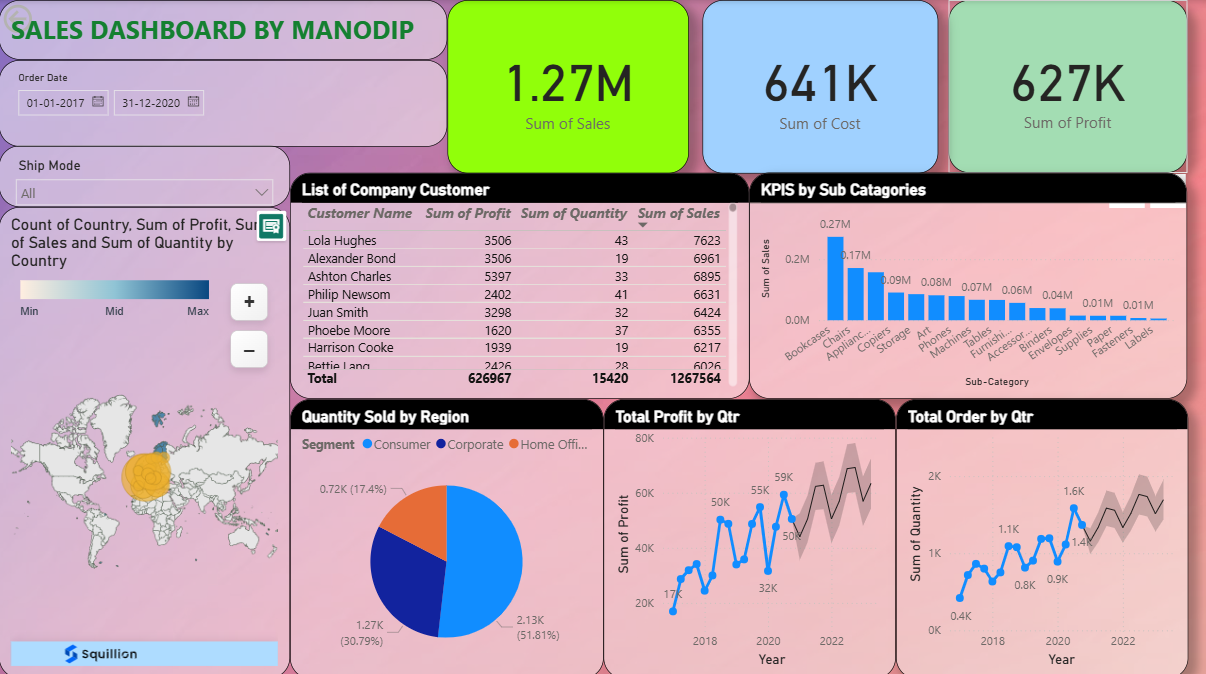

Layout of this report page (visuals, bound fields, positions):
{"tool":"powerbi","page":{"name":"Page 1","canvas":[1280,720],"ordinal":0},"visuals":[{"type":"card","fields":{"Values":["List of Orders.Profit"]},"box":[1006.7,0,253.3,183.3],"z":0},{"type":"card","fields":{"Values":["List of Orders.Cost"]},"box":[746,0,250,184],"z":1000},{"type":"card","fields":{"Values":["List of Orders.Sales"]},"box":[476,0,256,184],"z":2000},{"type":"clusteredColumnChart","title":"KPIS by Sub Catagories","fields":{"Y":["List of Orders.Sales"],"Category":["List of Orders.Sub-Category"]},"box":[795.6,183.3,464.9,240],"z":3000},{"type":"lineChart","title":"Total Order by Qtr ","fields":{"Category":["List of Orders.Order Date.Variation.Date Hierarchy.Year","List of Orders.Order Date.Variation.Date Hierarchy.Quarter"],"Y":["List of Orders.Quantity"]},"box":[950.6,423.3,309.9,296.7],"z":4000},{"type":"tableEx","title":"List of Company Customer","fields":{"Values":["List of Orders.Customer Name","List of Orders.Profit","List of Orders.Quantity","List of Orders.Sales"]},"box":[308,183.3,487.6,240],"z":5000},{"type":"slicer","fields":{"Values":["List of Orders.Ship Mode"]},"box":[0,155,308.3,65],"z":6000},{"type":"pieChart","title":"Quantity Sold by Region","fields":{"Y":["List of Orders.Segment"],"Category":["List of Orders.Segment"]},"box":[308,423.3,332.6,296.7],"z":7000},{"type":"MapBySquillion","fields":{"category":["List of Orders.Country"],"value":["List of Orders.Country"],"bubble":["List of Orders.Profit"]},"box":[0,220,308.3,500],"z":8000},{"type":"actionButton","box":[0,0,100,40],"z":9000},{"type":"slicer","fields":{"Values":["List of Orders.Order Date"]},"box":[0,63.3,475,91.7],"z":10000},{"type":"textbox","box":[0,0,475,63.3],"z":11000},{"type":"lineChart","title":"Total Profit by Qtr ","fields":{"Category":["List of Orders.Order Date.Variation.Date Hierarchy.Year","List of Orders.Order Date.Variation.Date Hierarchy.Quarter"],"Y":["List of Orders.Profit"]},"box":[640.6,423.3,309.9,296.7],"z":12000}]}

Visuals, with their boxes in screenshot pixels (x1, y1, x2, y2), scaled from the page's 1280x720 canvas onto the 1206x674 screenshot:
card - List of Orders.Profit: [949, 0, 1187, 172]
card - List of Orders.Cost: [703, 0, 938, 172]
card - List of Orders.Sales: [448, 0, 690, 172]
"KPIS by Sub Catagories" clusteredColumnChart: [750, 172, 1188, 396]
"Total Order by Qtr " lineChart: [896, 396, 1188, 673]
"List of Company Customer" tableEx: [290, 172, 750, 396]
slicer - List of Orders.Ship Mode: [0, 145, 290, 206]
"Quantity Sold by Region" pieChart: [290, 396, 604, 673]
MapBySquillion - List of Orders.Country x List of Orders.Country: [0, 206, 290, 673]
actionButton: [0, 0, 94, 37]
slicer - List of Orders.Order Date: [0, 59, 448, 145]
textbox: [0, 0, 448, 59]
"Total Profit by Qtr " lineChart: [604, 396, 896, 673]
